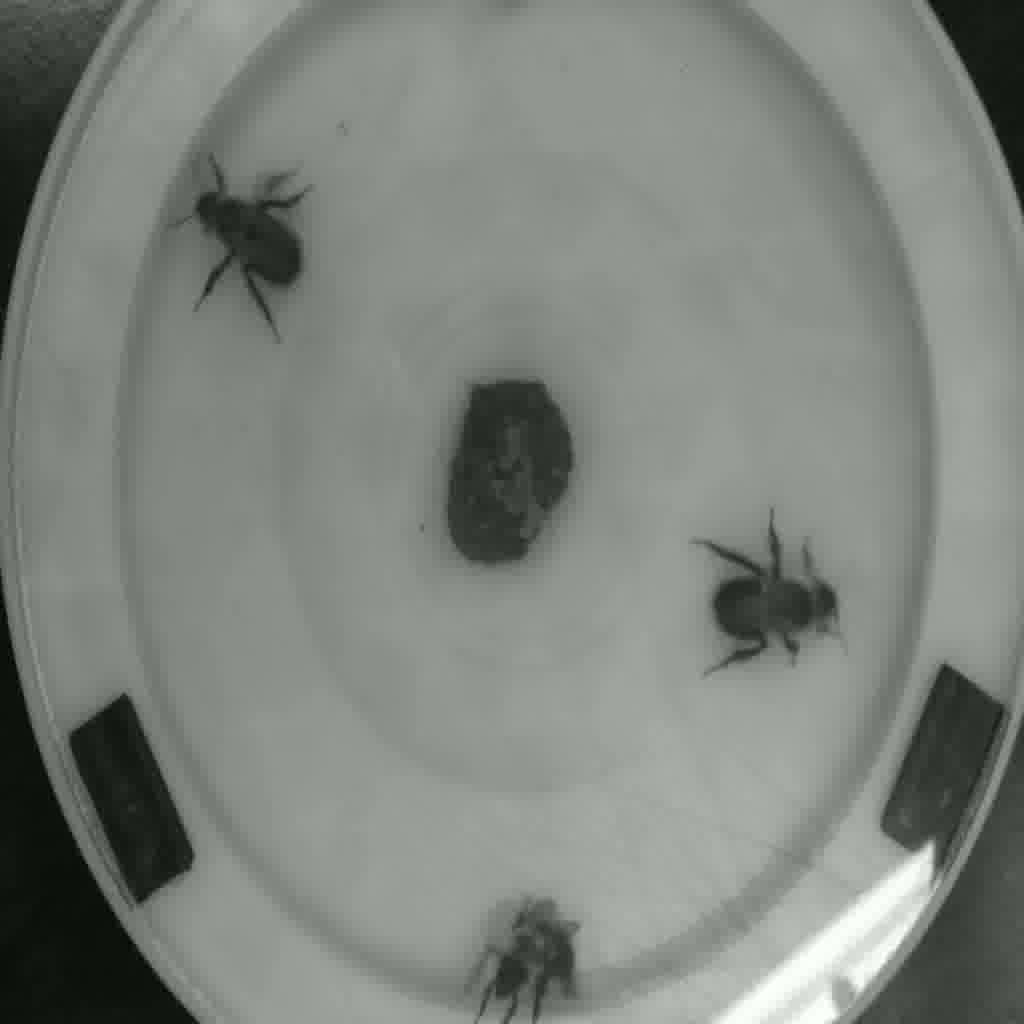bee: (167, 155, 348, 338), (677, 499, 852, 680), (449, 880, 628, 1024)
